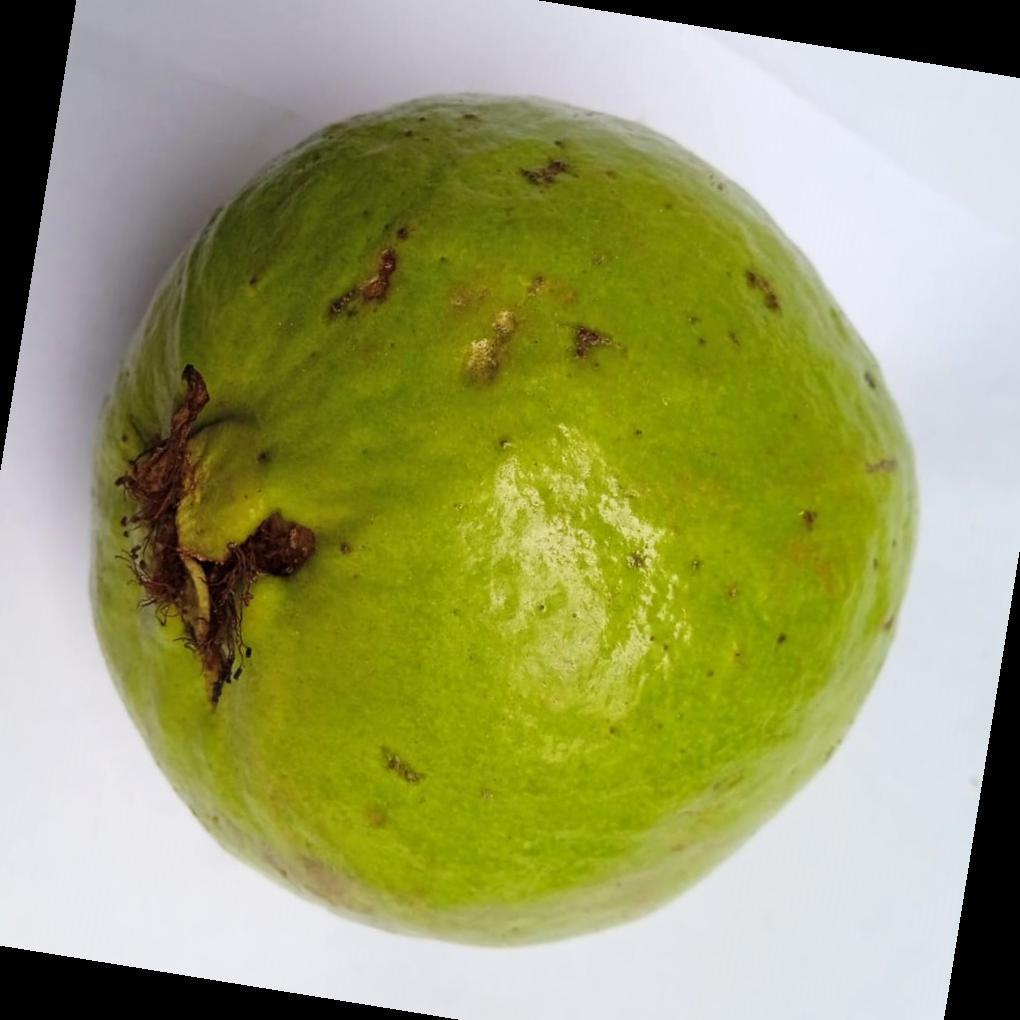FreshGuava: (85, 95, 920, 952)
